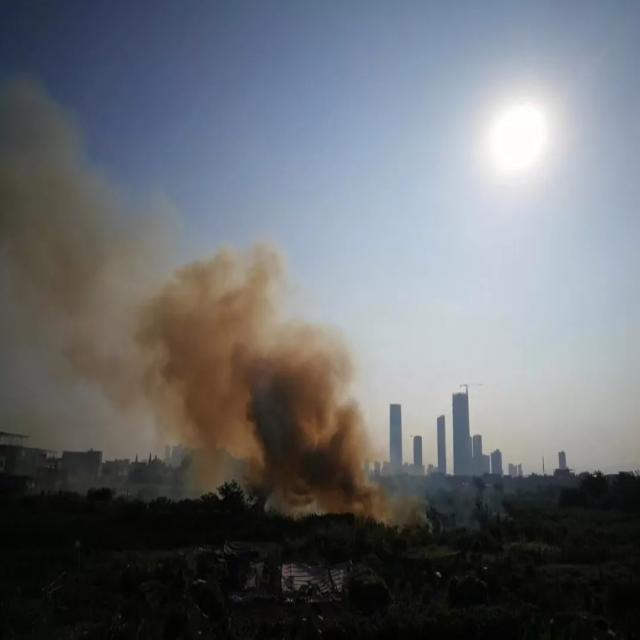smoke: (4, 74, 435, 531)
